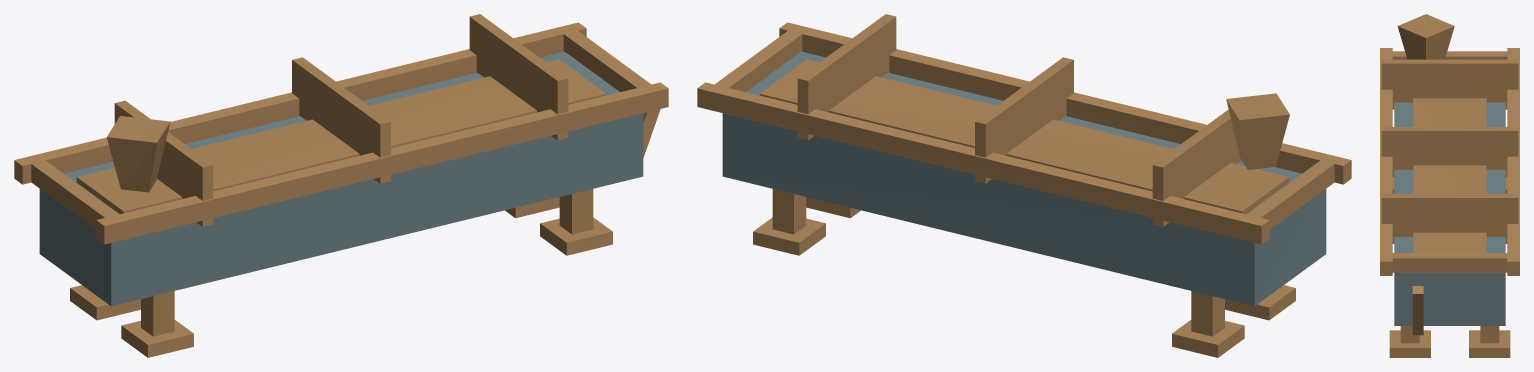
File: feeding-trough.source.glb
3 renders of one model, left to right at view 1: azimuth 30°, elevation 25°; view 2: azimuth 150°, elevation 25°; view 3: azimuth 270°, elevation 25°, orthographic. The views are drawn at different scales.
Parts seen in each view (by area): view 1: feeding-trough-long-open-galvanized-basin-mesh, feeding-trough-reinforced-basin-rim-mesh (×2), feeding-trough-open-basin-interior-cue-mesh, feeding-trough-simple-feeding-divider-bar-mesh (×3), feeding-trough-wide-support-foot-mesh (×4), feeding-trough-reinforced-end-rim-mesh (×2), feeding-trough-small-feed-input-funnel-cue-mesh, feeding-trough-sturdy-grounded-support-leg-mesh (×2); view 2: feeding-trough-long-open-galvanized-basin-mesh, feeding-trough-reinforced-basin-rim-mesh (×2), feeding-trough-open-basin-interior-cue-mesh, feeding-trough-simple-feeding-divider-bar-mesh (×3), feeding-trough-wide-support-foot-mesh (×4), feeding-trough-reinforced-end-rim-mesh (×2), feeding-trough-small-feed-input-funnel-cue-mesh, feeding-trough-sturdy-grounded-support-leg-mesh (×2); view 3: feeding-trough-simple-feeding-divider-bar-mesh (×3), feeding-trough-long-open-galvanized-basin-mesh, feeding-trough-open-basin-interior-cue-mesh, feeding-trough-reinforced-basin-rim-mesh (×2), feeding-trough-reinforced-end-rim-mesh (×2), feeding-trough-small-feed-input-funnel-cue-mesh, feeding-trough-wide-support-foot-mesh (×2), feeding-trough-sturdy-grounded-support-leg-mesh (×2), feeding-trough-side-cleanout-lever-cue-mesh.
Part boxes in pixels (x1,y1,x2,y2): feeding-trough-long-open-galvanized-basin-mesh: (39, 51, 643, 306); feeding-trough-reinforced-basin-rim-mesh (×2): (14, 22, 668, 244); feeding-trough-open-basin-interior-cue-mesh: (76, 59, 606, 214); feeding-trough-simple-feeding-divider-bar-mesh (×3): (114, 14, 568, 226); feeding-trough-wide-support-foot-mesh (×4): (70, 197, 612, 357); feeding-trough-reinforced-end-rim-mesh (×2): (28, 27, 651, 229); feeding-trough-small-feed-input-funnel-cue-mesh: (106, 116, 170, 192); feeding-trough-sturdy-grounded-support-leg-mesh (×2): (141, 189, 593, 336); feeding-trough-long-open-galvanized-basin-mesh: (722, 51, 1326, 306); feeding-trough-reinforced-basin-rim-mesh (×2): (697, 22, 1351, 244); feeding-trough-open-basin-interior-cue-mesh: (759, 59, 1289, 214); feeding-trough-simple-feeding-divider-bar-mesh (×3): (797, 14, 1241, 226); feeding-trough-wide-support-foot-mesh (×4): (753, 197, 1295, 357); feeding-trough-reinforced-end-rim-mesh (×2): (714, 27, 1337, 229); feeding-trough-small-feed-input-funnel-cue-mesh: (1226, 93, 1289, 169); feeding-trough-sturdy-grounded-support-leg-mesh (×2): (772, 189, 1224, 336); feeding-trough-simple-feeding-divider-bar-mesh (×3): (1381, 59, 1518, 243); feeding-trough-long-open-galvanized-basin-mesh: (1394, 102, 1505, 325); feeding-trough-open-basin-interior-cue-mesh: (1413, 98, 1486, 252); feeding-trough-reinforced-basin-rim-mesh (×2): (1380, 48, 1519, 275); feeding-trough-reinforced-end-rim-mesh (×2): (1386, 51, 1513, 272); feeding-trough-small-feed-input-funnel-cue-mesh: (1397, 14, 1454, 59); feeding-trough-wide-support-foot-mesh (×2): (1389, 330, 1510, 357); feeding-trough-sturdy-grounded-support-leg-mesh (×2): (1400, 326, 1499, 343); feeding-trough-side-cleanout-lever-cue-mesh: (1412, 286, 1423, 335).
Size of the model in its own units: 3.26 by 1.12 by 0.88.
